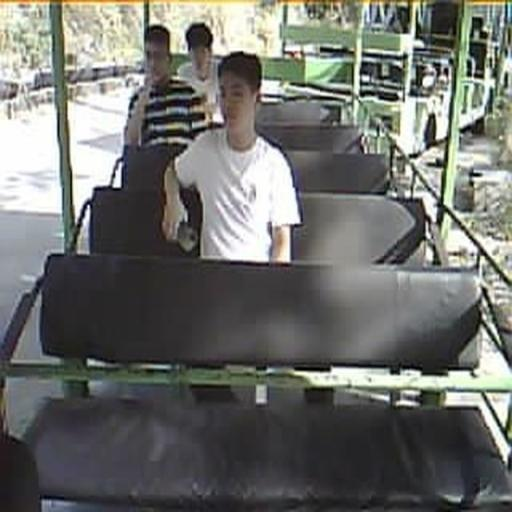persona: (173, 50, 303, 264), (122, 24, 211, 154), (176, 22, 224, 121)
